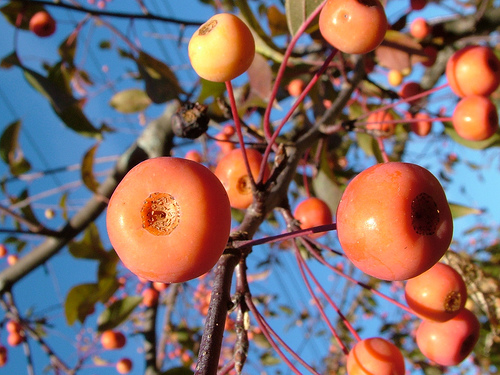apple: (104, 157, 240, 291), (334, 158, 457, 287), (183, 12, 256, 81)
